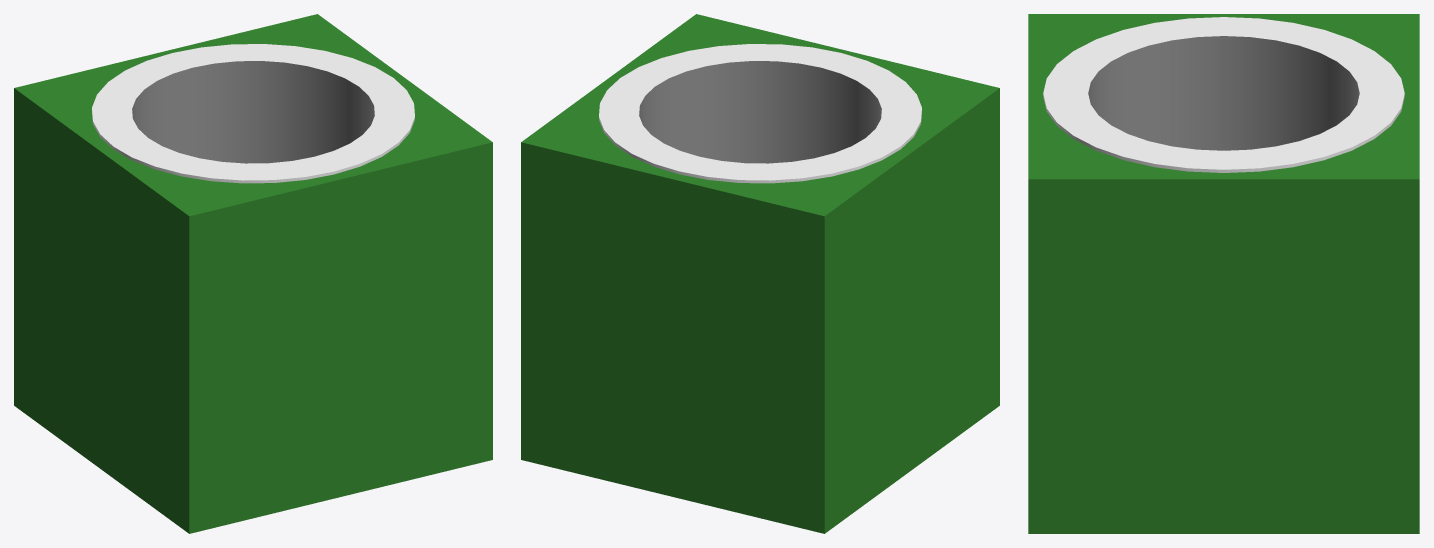
File: Hole1.FBX
3 renders of one model, left to right at view 1: azimuth 30°, elevation 25°; view 2: azimuth 150°, elevation 25°; view 3: azimuth 270°, elevation 25°, orthographic. The views are drawn at different scales.
Parts seen in each view (by area): view 1: Box001, Cylinder001; view 2: Box001, Cylinder001; view 3: Box001, Cylinder001.
Part boxes in pixels (x1,y1,x2,y2): Box001: (14,14,492,533); Cylinder001: (92,44,414,183); Box001: (521,14,999,533); Cylinder001: (599,44,921,183); Box001: (1028,14,1419,533); Cylinder001: (1043,17,1404,172).
Size of the model in its own units: 25 by 25.46 by 25.
